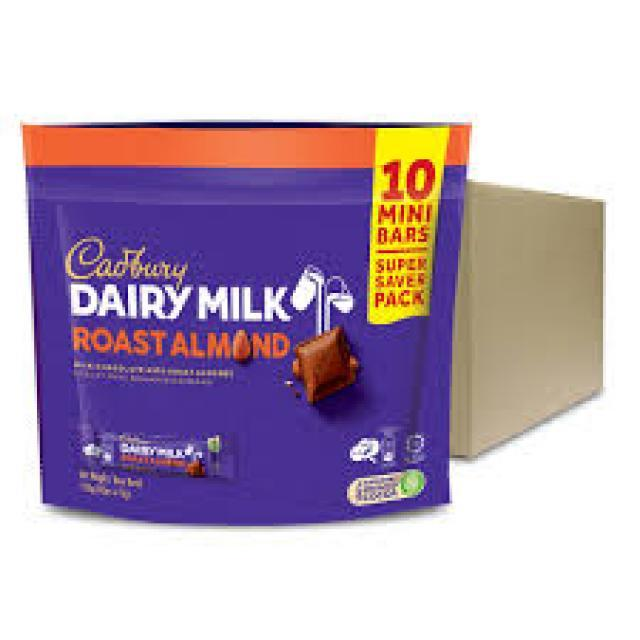cadbury_chocolate: (35, 133, 468, 520)
